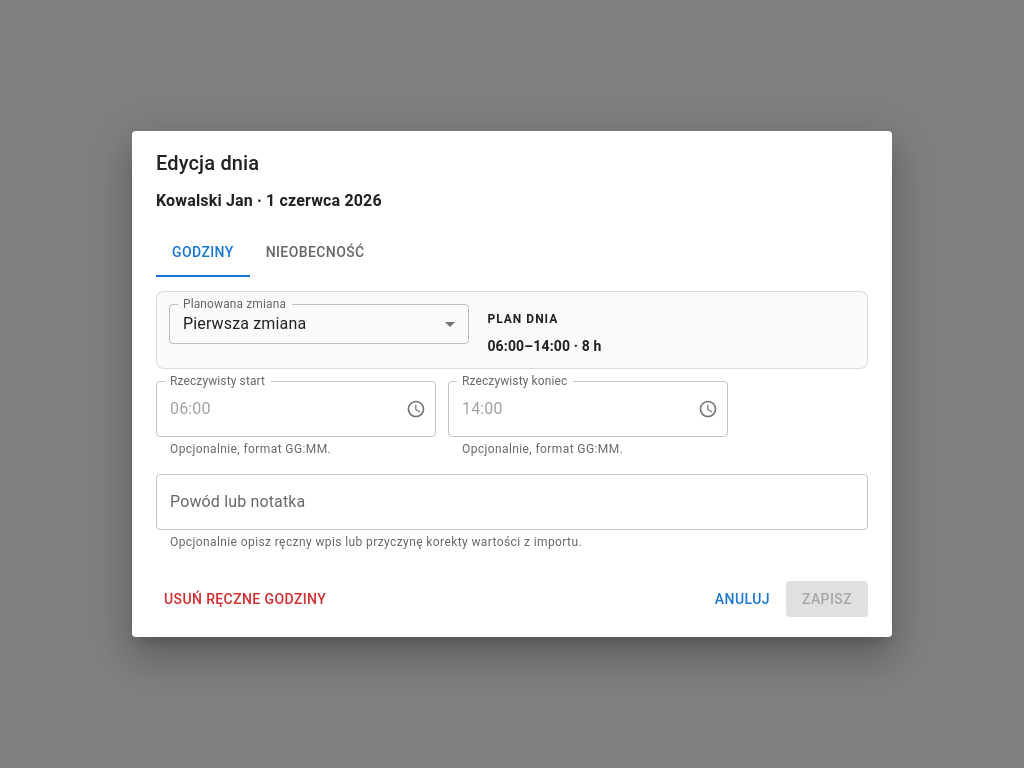
Test case: DailyValueEditorDialog › also allows absence replacement of an existing imported manual override
The width and height of the screenshot is (1024, 768).
Click the tab "Nieobecność". click: x=315, y=253
box: 250,229 -> 381,277
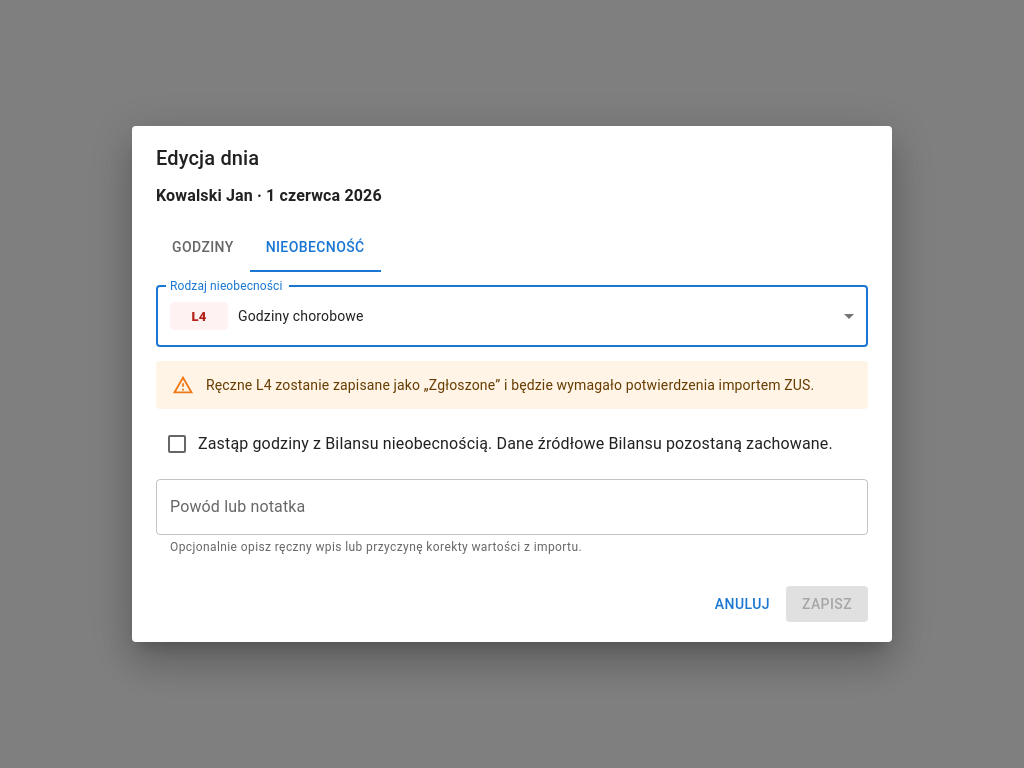
Now the dropdown named "Rodzaj nieobecności" is shown, box 170,302 -> 364,330
Click the checkbox. click: x=499, y=444
box: 165,432 -> 833,456
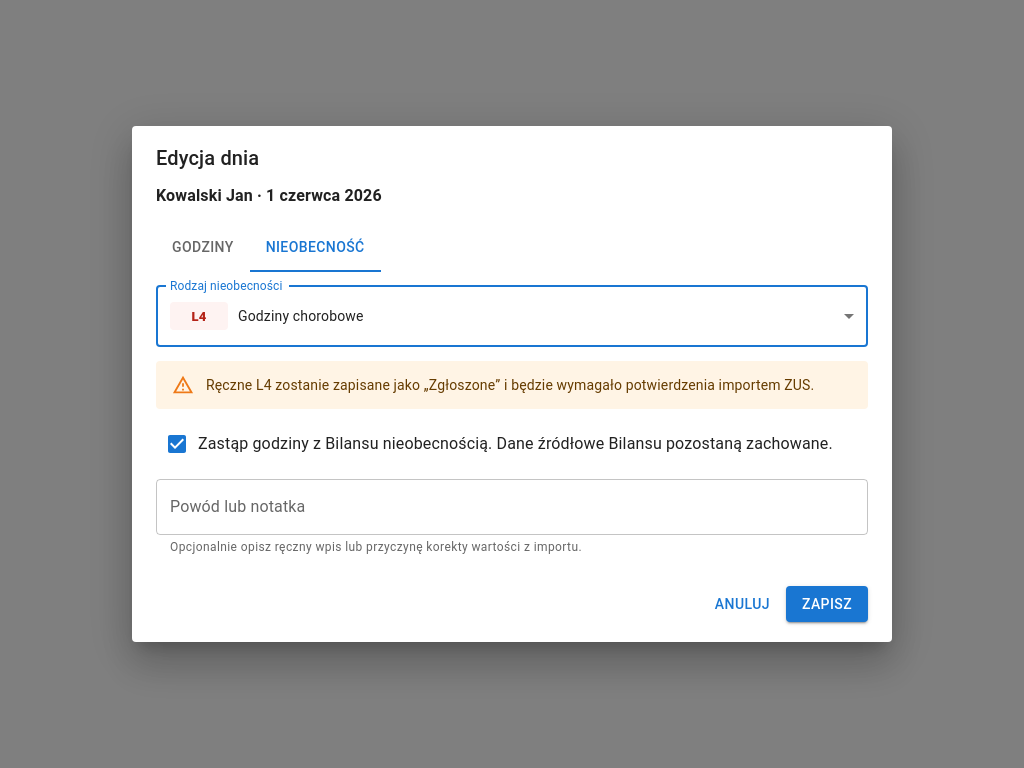
Now the button "Zapisz" is enabled, box 786,586 -> 868,622
